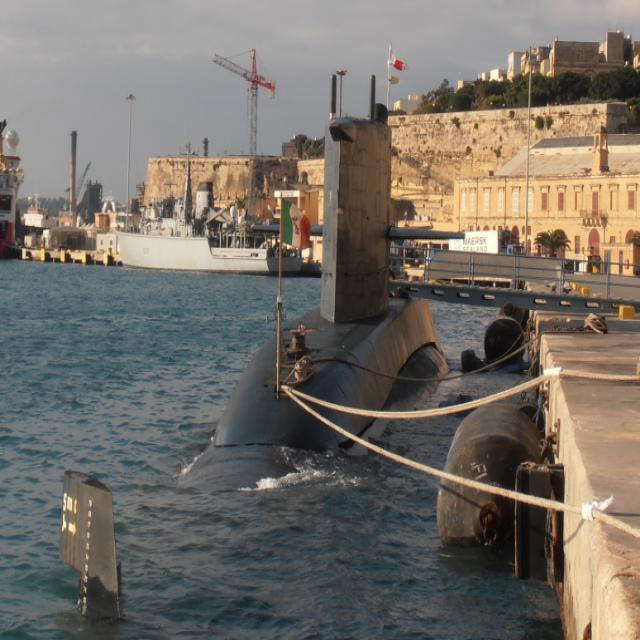submarine: (58, 74, 448, 626)
